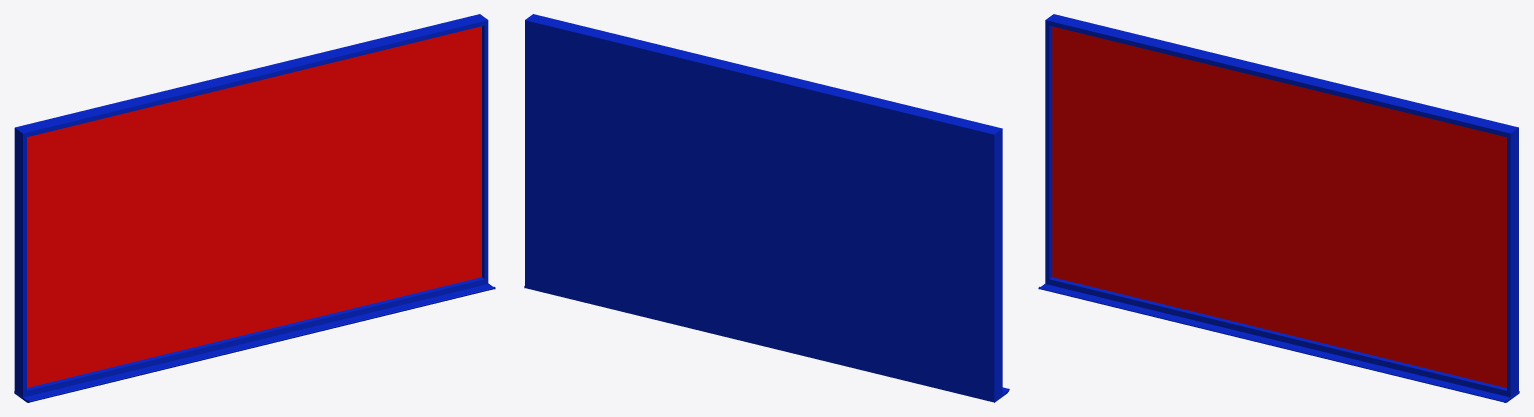
The model's file is tableau_blanc.fbx.
3 renders of one model, left to right at view 1: azimuth 30°, elevation 25°; view 2: azimuth 150°, elevation 25°; view 3: azimuth 330°, elevation 25°, orthographic.
Visible parts, largest first — view 1: Box002; view 2: Box002; view 3: Box002.
Part boxes in pixels (box(x1,y1,x2,y2)): Box002: box(14, 14, 495, 402); Box002: box(524, 14, 1009, 402); Box002: box(1038, 14, 1519, 402).
Size of the model in its own units: 188 by 103 by 10.71.
